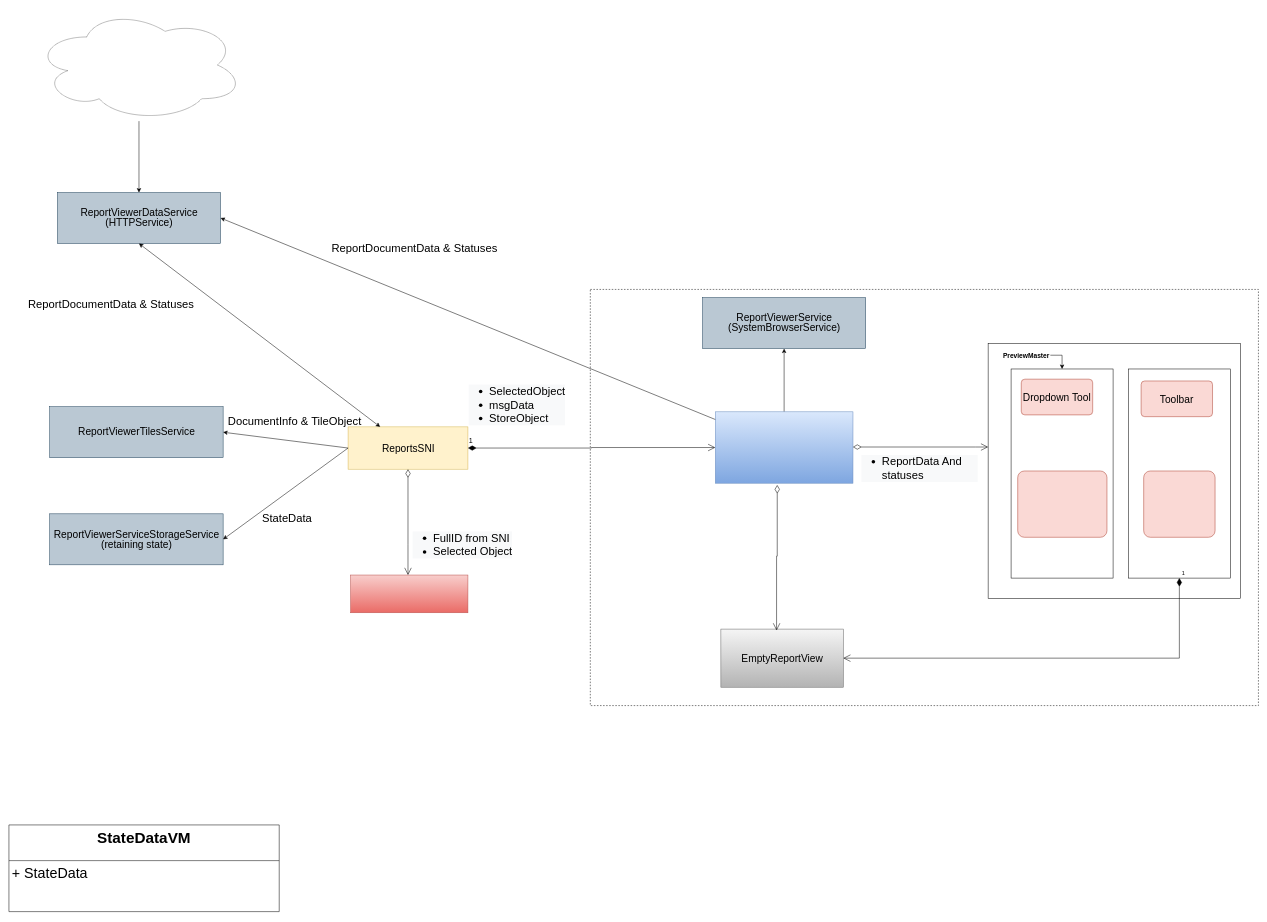
The diagram is 1267 pixels wide and 922 high, and some of its shapes have lost their labels. Here are the shapes that lost their labels. From the top down, the centre of each, then its label:
point 139,64: ReportServiceBaseAPI (Proxy_Services)
point 784,447: ReportPreviewContainer
point 1062,503: HistoryDataTable
point 1179,503: Preview
point 409,594: Tile View
